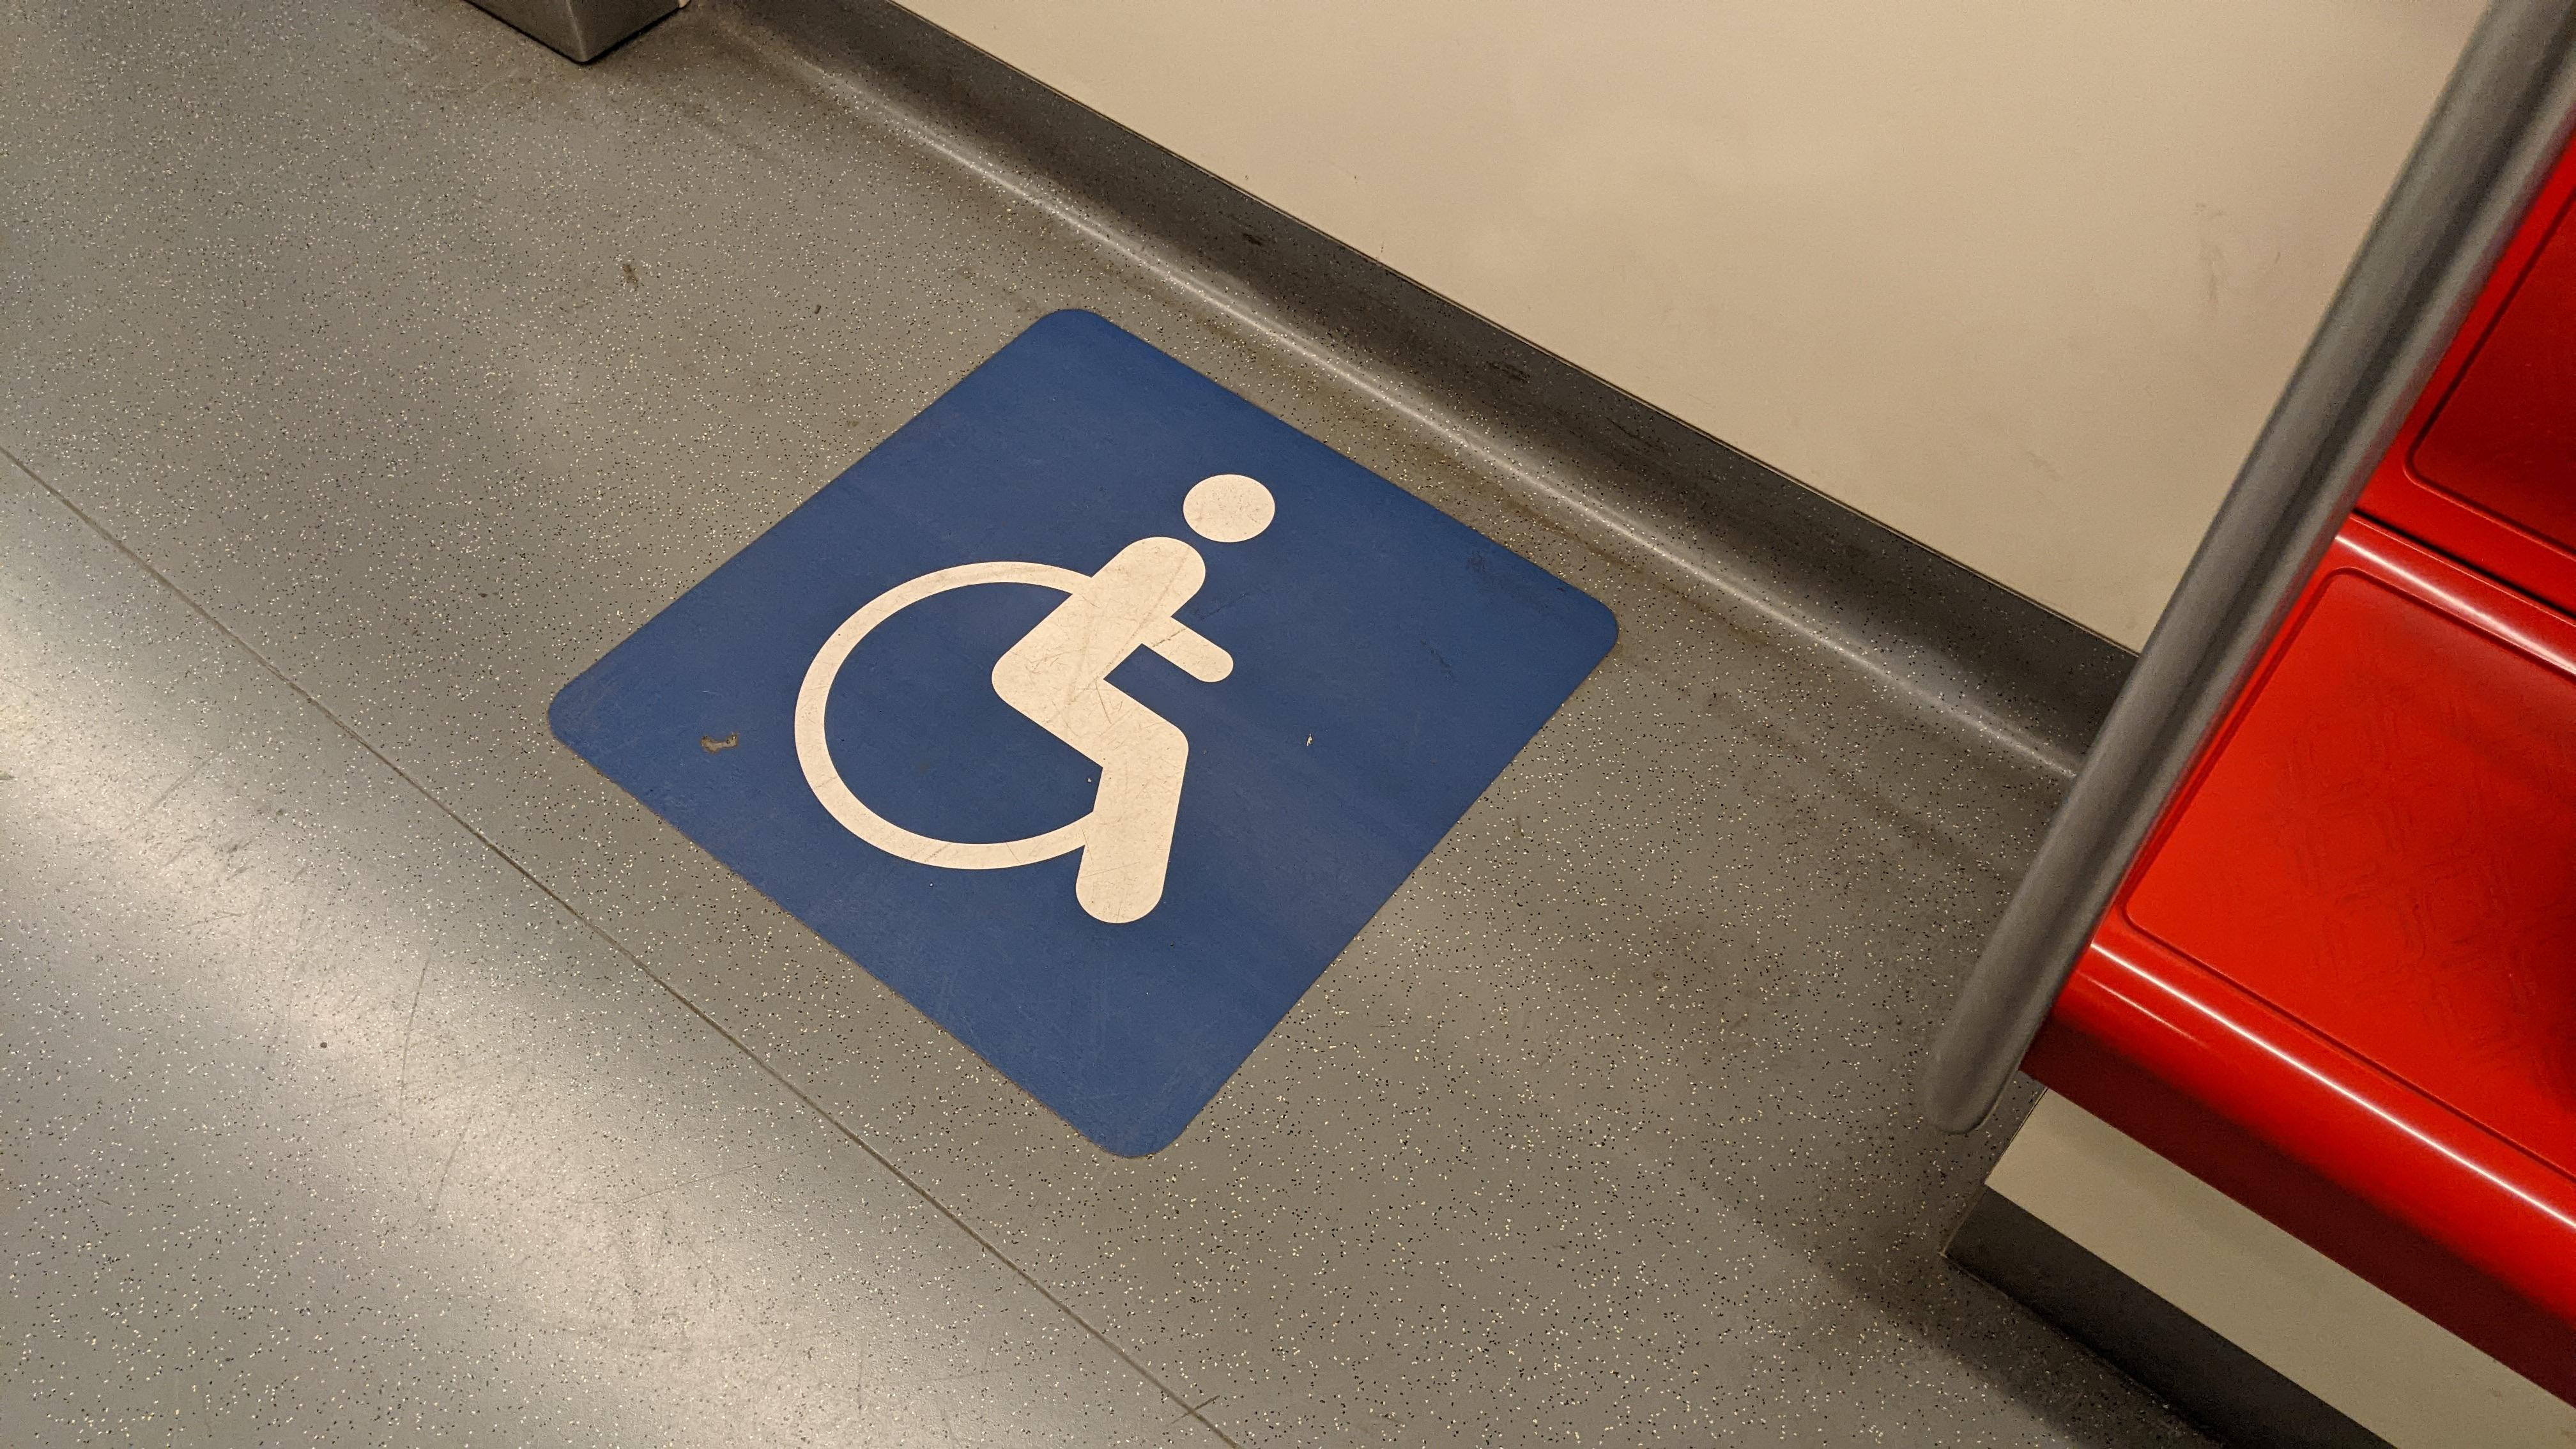handicapped symbol: (780, 467, 1286, 932)
